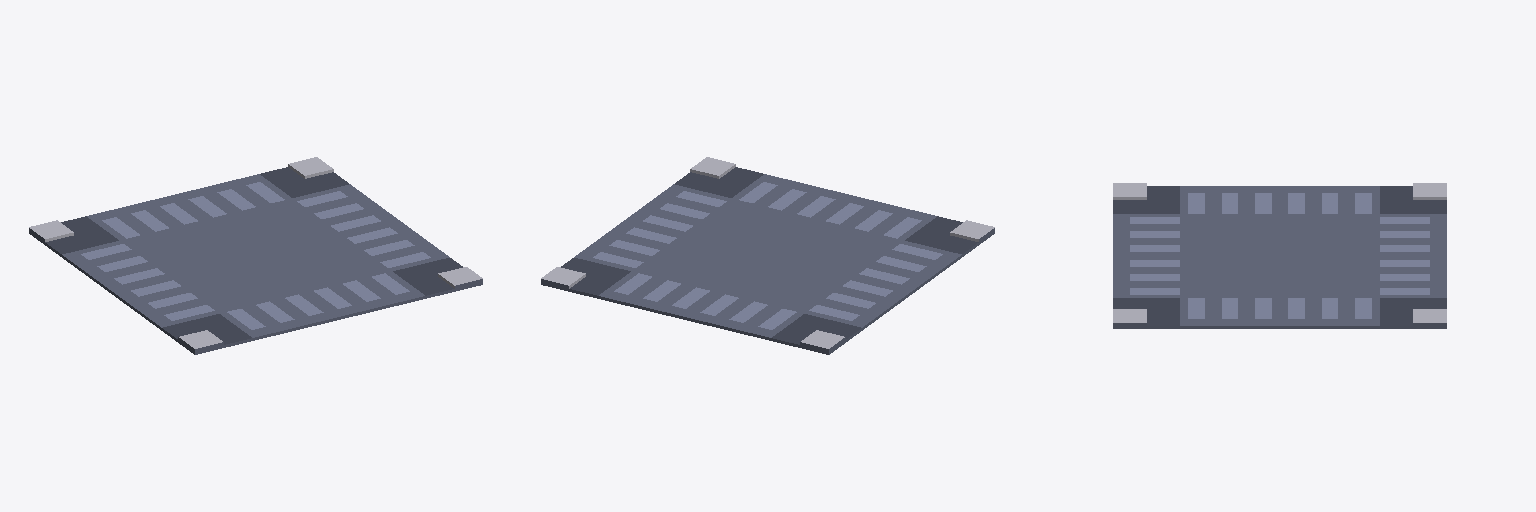
The model's file is city_road_crossing.obj.
3 renders of one model, left to right at view 1: azimuth 30°, elevation 25°; view 2: azimuth 150°, elevation 25°; view 3: azimuth 270°, elevation 25°, orthographic.
Parts seen in each view (by area): view 1: mergedBlocks; view 2: mergedBlocks; view 3: mergedBlocks.
Part boxes in pixels (x1,y1,x2,y2): mergedBlocks: (29,157,482,354); mergedBlocks: (541,157,994,354); mergedBlocks: (1113,183,1446,328).
Size of the model in its own units: 1 by 0.02 by 1.